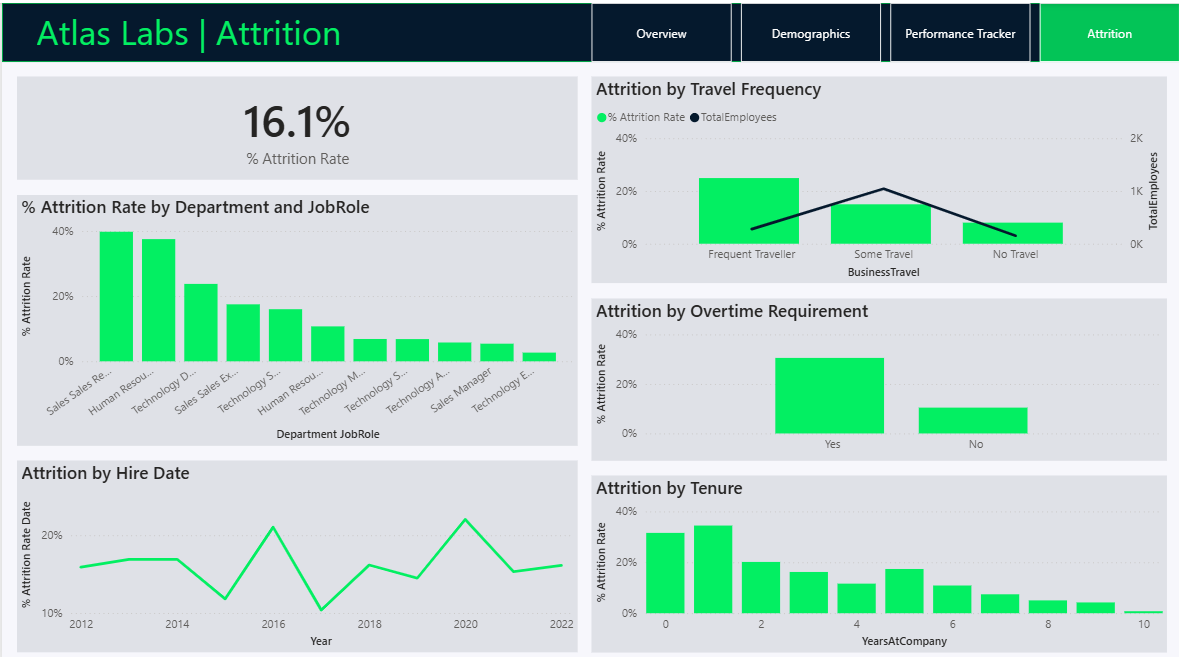

The page's visual inventory and layout, read from the dashboard file:
{"tool":"powerbi","page":{"name":"Attrition","canvas":[1280,720],"ordinal":3},"visuals":[{"type":"card","fields":{"Values":["_Measures.% Attrition Rate"]},"box":[16,80,608,112],"z":0},{"type":"columnChart","fields":{"Category":["DimEmployee.Department","DimEmployee.JobRole"],"Y":["_Measures.% Attrition Rate"]},"box":[16,208,608,272],"z":1000},{"type":"lineChart","title":"Attrition by Hire Date","fields":{"Y":["_Measures.% Attrition Rate Date"],"Category":["DimDate.Date.Variation.Date Hierarchy.Year","DimDate.Date.Variation.Date Hierarchy.Quarter","DimDate.Date.Variation.Date Hierarchy.Month","DimDate.Date.Variation.Date Hierarchy.Day"]},"box":[16,496,608,208],"z":2000},{"type":"lineStackedColumnComboChart","title":"Attrition by Travel Frequency","fields":{"Y":["_Measures.% Attrition Rate"],"Category":["DimEmployee.BusinessTravel"],"Y2":["_Measures.TotalEmployees"]},"box":[640,80,624,224],"z":3000},{"type":"columnChart","title":"Attrition by Overtime Requirement","fields":{"Category":["DimEmployee.OverTime"],"Y":["_Measures.% Attrition Rate"]},"box":[640,320,624,176],"z":4000},{"type":"columnChart","title":"Attrition by Tenure","fields":{"Category":["DimEmployee.YearsAtCompany"],"Y":["_Measures.% Attrition Rate"]},"box":[640,512,624,192],"z":5000},{"type":"shape","box":[0,0,1280,64],"z":6000},{"type":"textbox","box":[32,0,624,64],"z":7000},{"type":"pageNavigator","box":[640,0,640,64],"z":8000}]}

Visuals, with their boxes in screenshot pixels (x1, y1, x2, y2), scaled from the page's 1280x720 canvas onto the 1179x657 screenshot:
card - _Measures.% Attrition Rate: (x1=15, y1=73, x2=575, y2=175)
columnChart - DimEmployee.Department x DimEmployee.JobRole: (x1=15, y1=190, x2=575, y2=438)
"Attrition by Hire Date" lineChart: (x1=15, y1=453, x2=575, y2=642)
"Attrition by Travel Frequency" lineStackedColumnComboChart: (x1=590, y1=73, x2=1164, y2=277)
"Attrition by Overtime Requirement" columnChart: (x1=590, y1=292, x2=1164, y2=453)
"Attrition by Tenure" columnChart: (x1=590, y1=467, x2=1164, y2=642)
shape: (x1=0, y1=0, x2=1178, y2=58)
textbox: (x1=29, y1=0, x2=604, y2=58)
pageNavigator: (x1=590, y1=0, x2=1178, y2=58)
